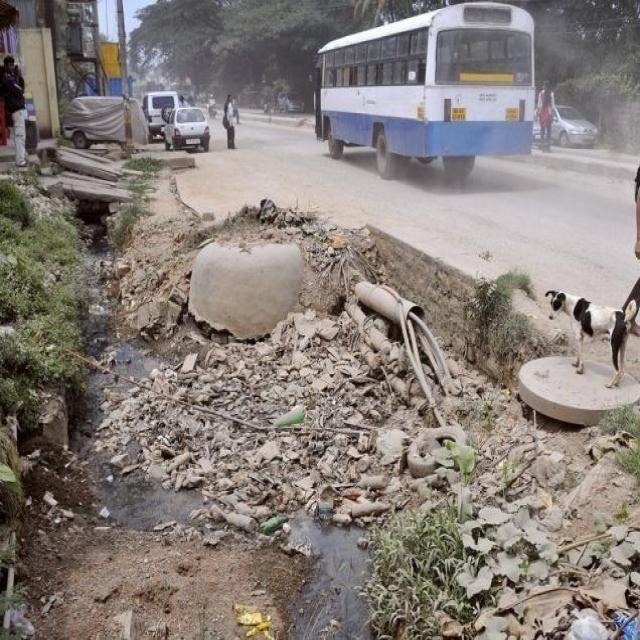garbage: (135, 198, 563, 640)
